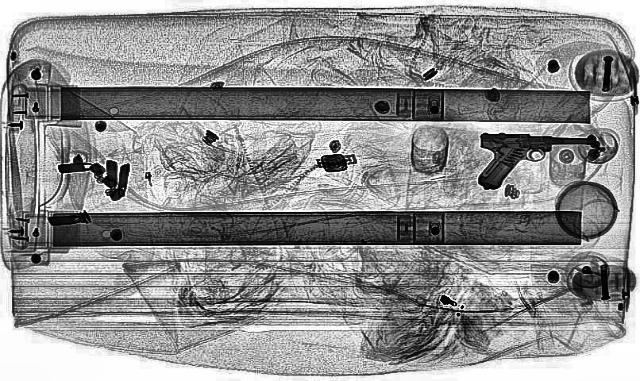Gun: (473, 130, 603, 190)
